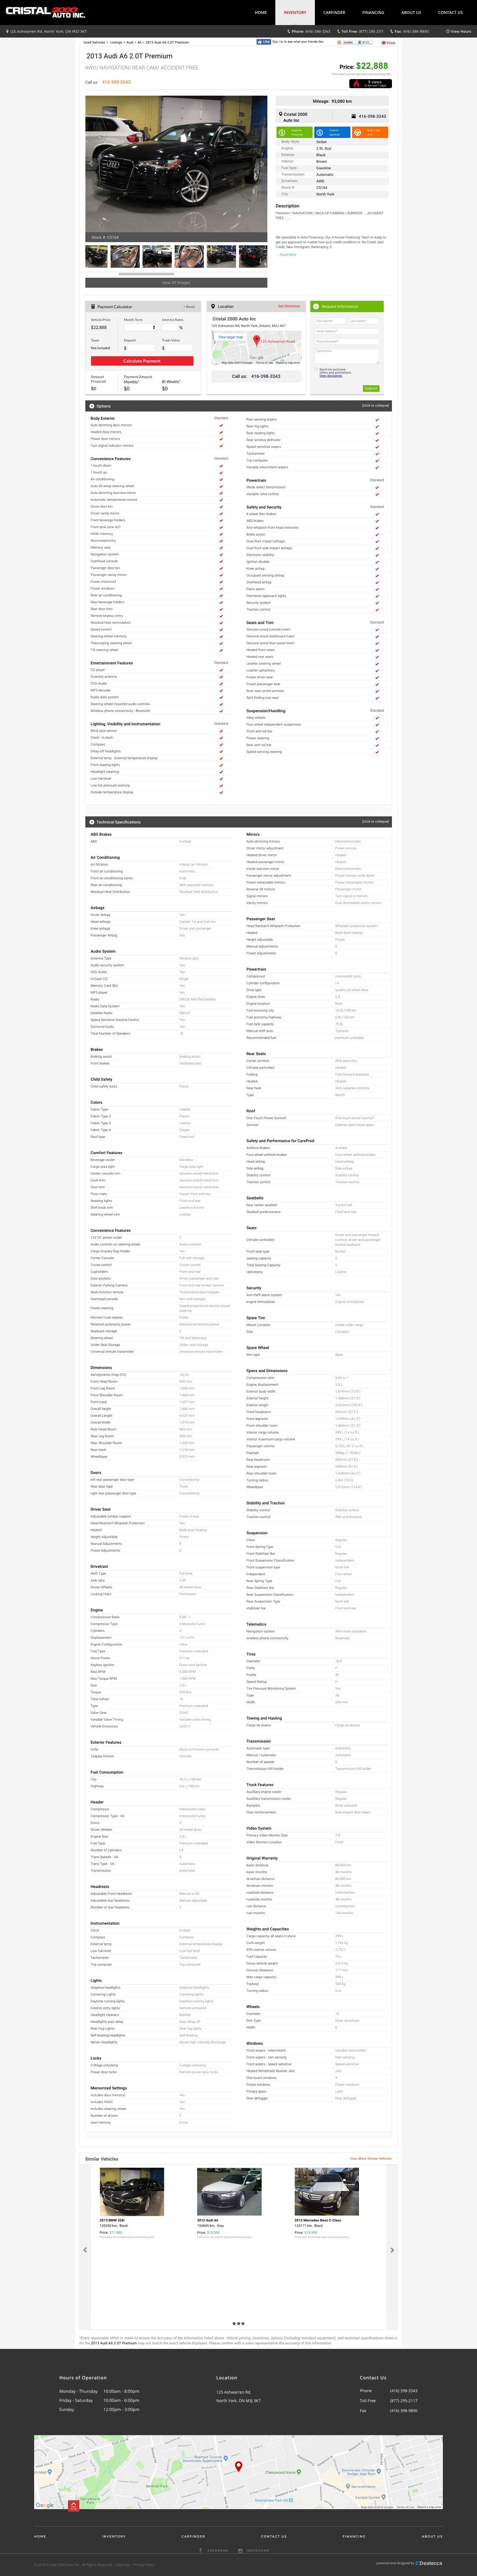car: (255, 158, 268, 171)
